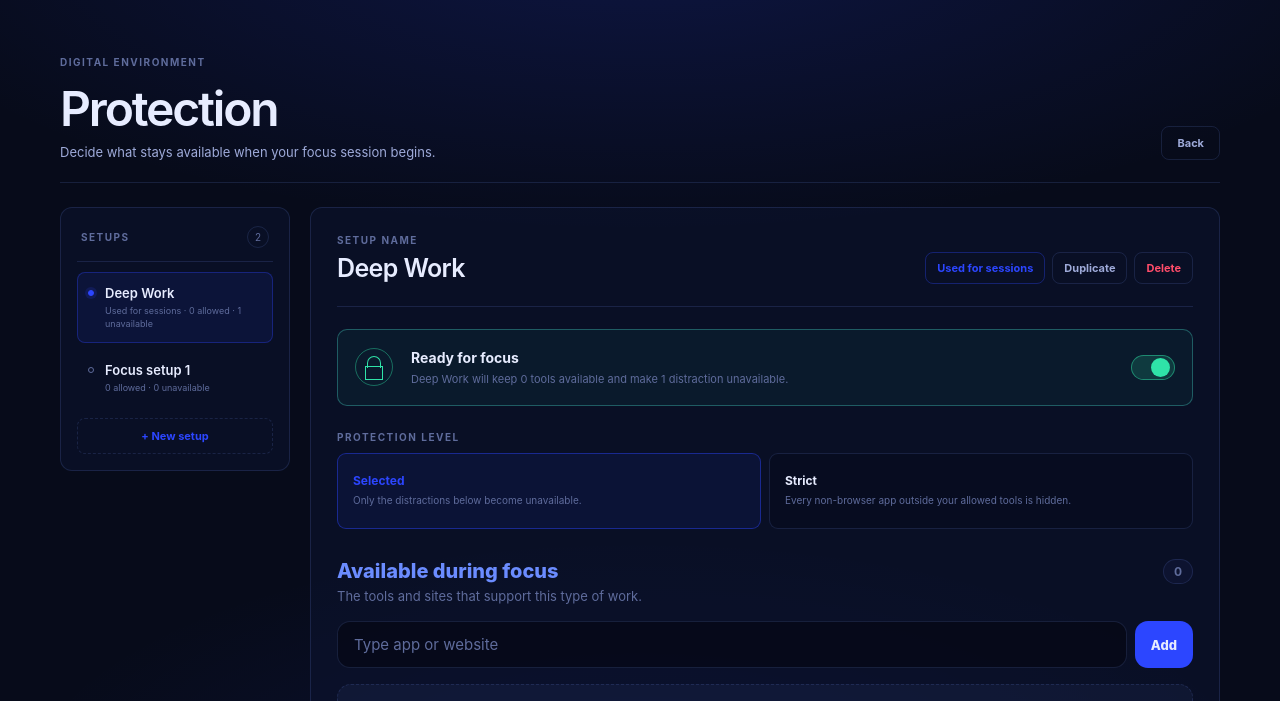
Test: FocusAppsScreen setup library › keeps clearing a generated name an unsaved change
Click the button "Focus setup 1 0 allowed · 0 unavailable" at (175, 378), box x1=77 y1=349 x2=273 y2=408
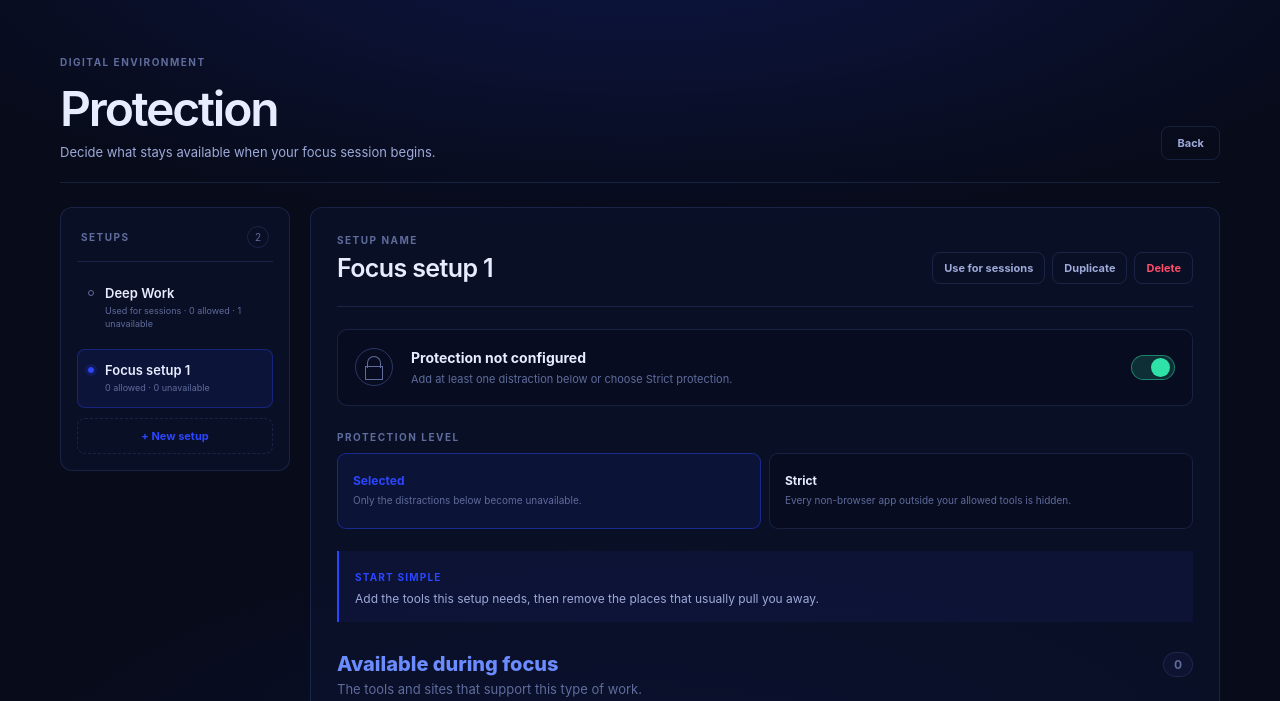
Clear the field labelled "Setup name" at (557, 268), box x1=337 y1=253 x2=777 y2=284
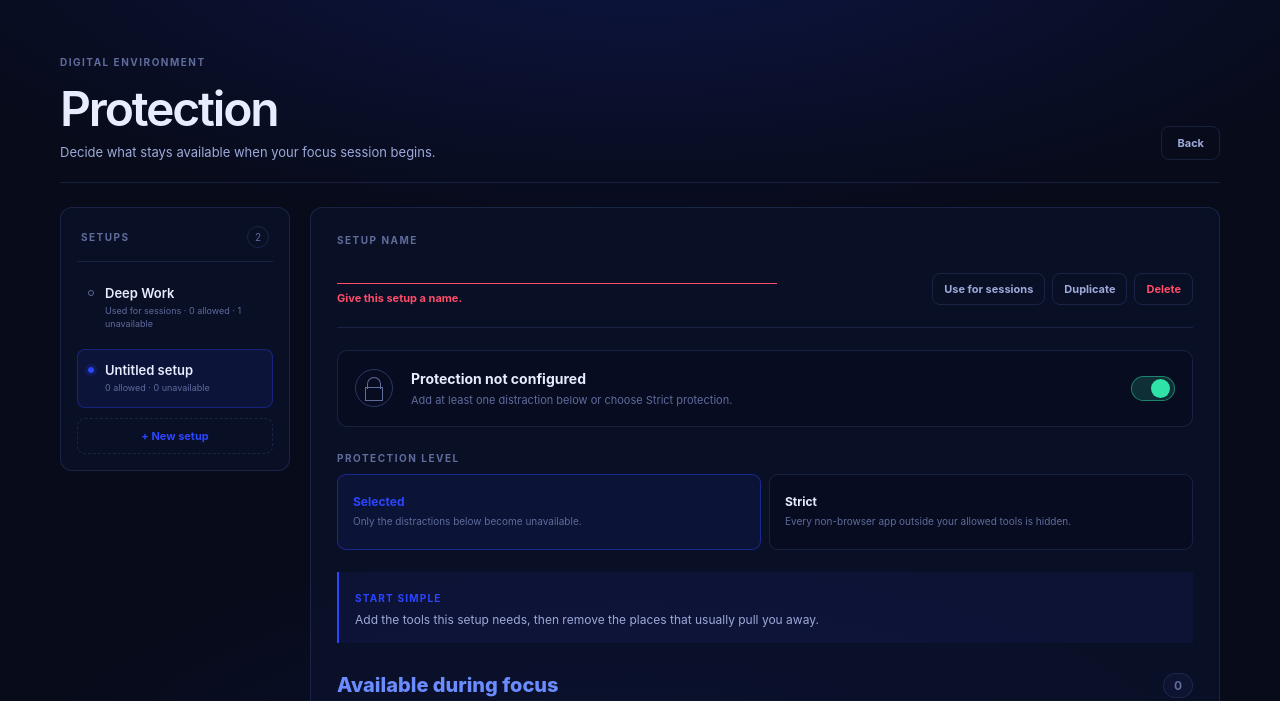
Now the message reads "Give this setup a name.", box x1=337 y1=291 x2=462 y2=305
Click the button "Back" at (1191, 143), box x1=1162 y1=126 x2=1220 y2=160
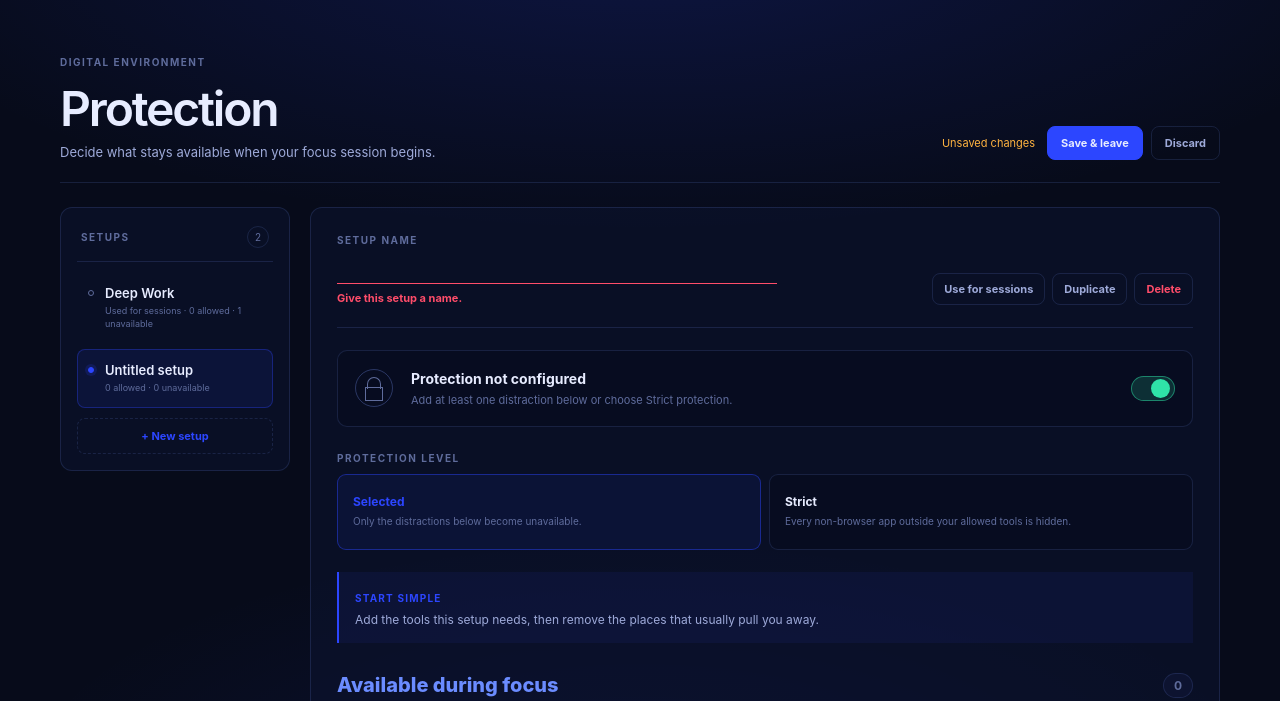
Now the text "Unsaved changes" is shown, box x1=942 y1=136 x2=1035 y2=150
